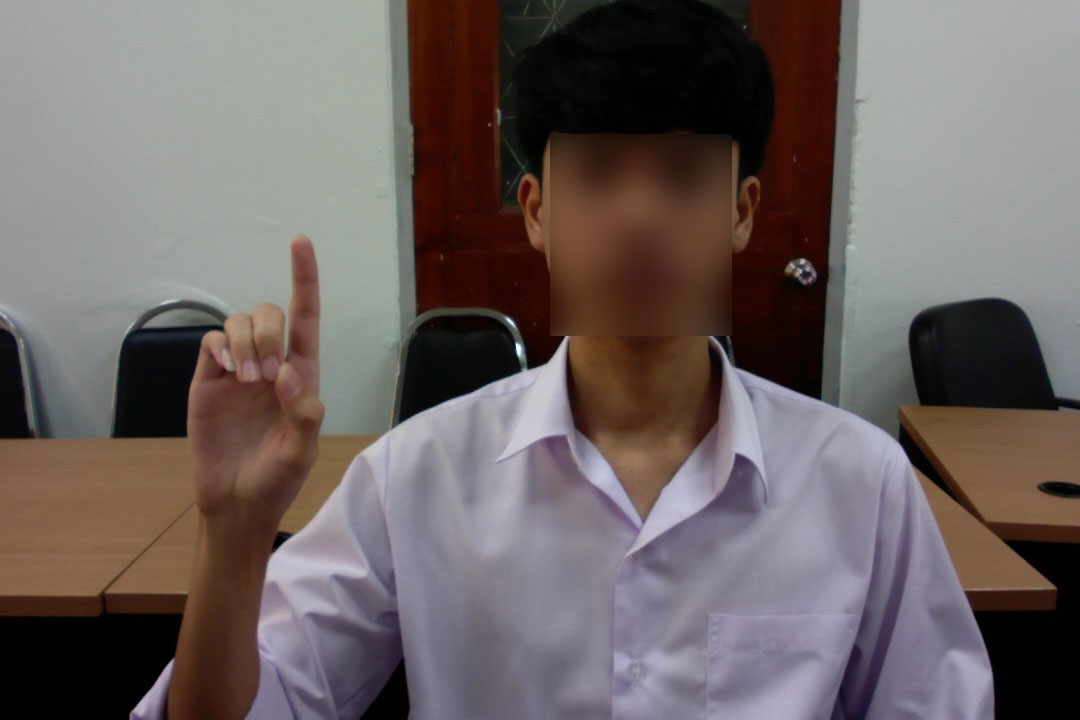dor: (166, 223, 338, 531)
